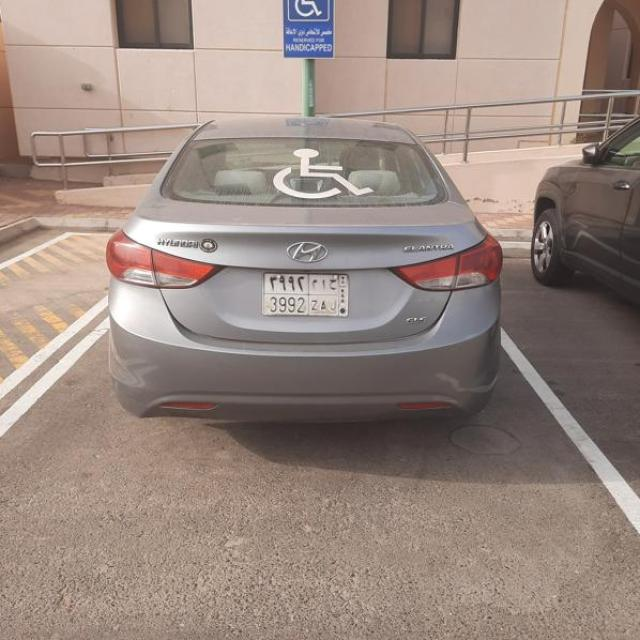license_plate: (261, 272, 351, 318)
